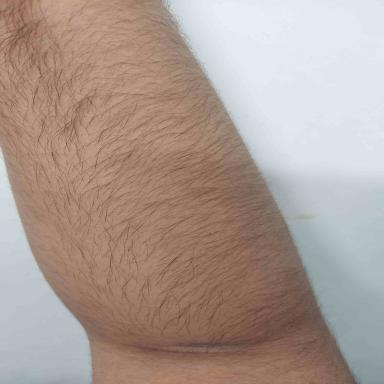normal skin: (1, 0, 356, 384)
